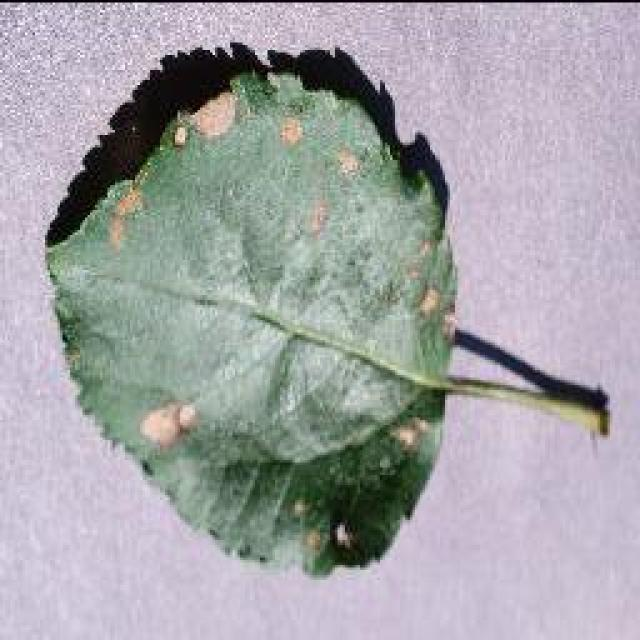Black_rot: (42, 42, 610, 578)
